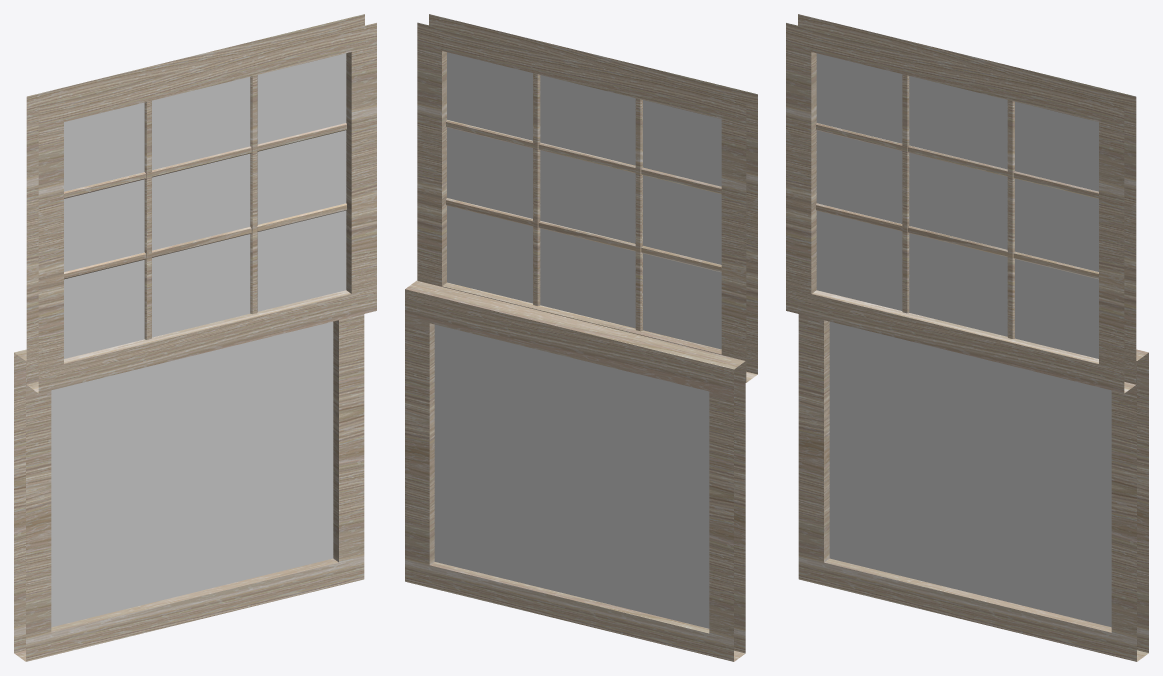
File: FLAT_window_01.FBX
The picture shows the model from 3 angles, left to right: view 1: azimuth 30°, elevation 25°; view 2: azimuth 150°, elevation 25°; view 3: azimuth 330°, elevation 25°; orthographic projection. The views are drawn at different scales.
Parts seen in each view (by area): view 1: FLAT_window_01_glassB, FLAT_window_01_glassA, FLAT_window_01_base, FLAT_window_01_openablePart; view 2: FLAT_window_01_glassB, FLAT_window_01_glassA, FLAT_window_01_openablePart, FLAT_window_01_base; view 3: FLAT_window_01_glassB, FLAT_window_01_glassA, FLAT_window_01_base, FLAT_window_01_openablePart.
Part boxes in pixels (x1=…): FLAT_window_01_glassB: x1=51, y1=321, x2=333, y2=627; FLAT_window_01_glassA: x1=64, y1=53, x2=346, y2=358; FLAT_window_01_base: x1=26, y1=14, x2=376, y2=393; FLAT_window_01_openablePart: x1=14, y1=314, x2=364, y2=661; FLAT_window_01_glassB: x1=434, y1=324, x2=709, y2=628; FLAT_window_01_glassA: x1=447, y1=52, x2=721, y2=349; FLAT_window_01_openablePart: x1=405, y1=280, x2=745, y2=661; FLAT_window_01_base: x1=417, y1=14, x2=757, y2=382; FLAT_window_01_glassB: x1=829, y1=321, x2=1111, y2=627; FLAT_window_01_glassA: x1=816, y1=53, x2=1098, y2=358; FLAT_window_01_base: x1=786, y1=14, x2=1136, y2=393; FLAT_window_01_openablePart: x1=798, y1=314, x2=1148, y2=661.
Bounding box in the file's own units: 155 × 247 × 19.38.
1 material, 1 textured.
